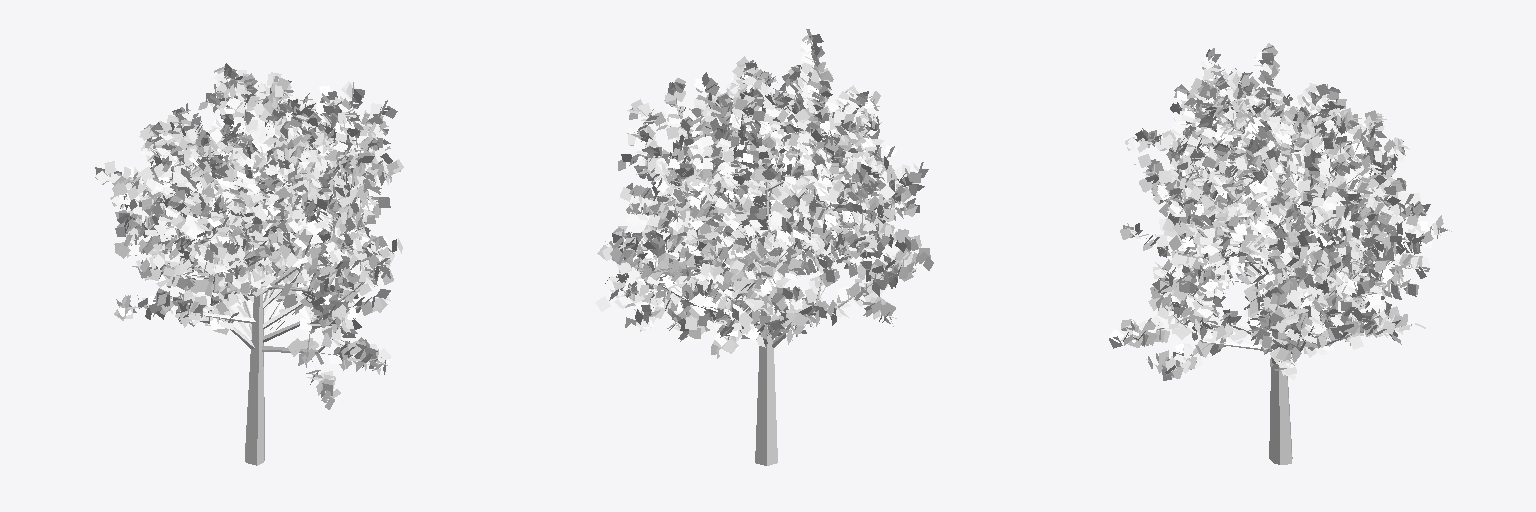
The model's file is SampleTree[d].obj.
3 views of the same model, side by side, from view 1: azimuth 30°, elevation 25°; view 2: azimuth 150°, elevation 25°; view 3: azimuth 270°, elevation 25° (orthographic).
Visible parts, largest first — view 1: trunk; view 2: trunk; view 3: trunk.
Part boxes in pixels (bbox=[...]): trunk: bbox=[95, 63, 403, 465]; trunk: bbox=[595, 29, 933, 465]; trunk: bbox=[1109, 43, 1451, 464].
Bounding box in the file's own units: 14.58 × 20.02 × 15.22.